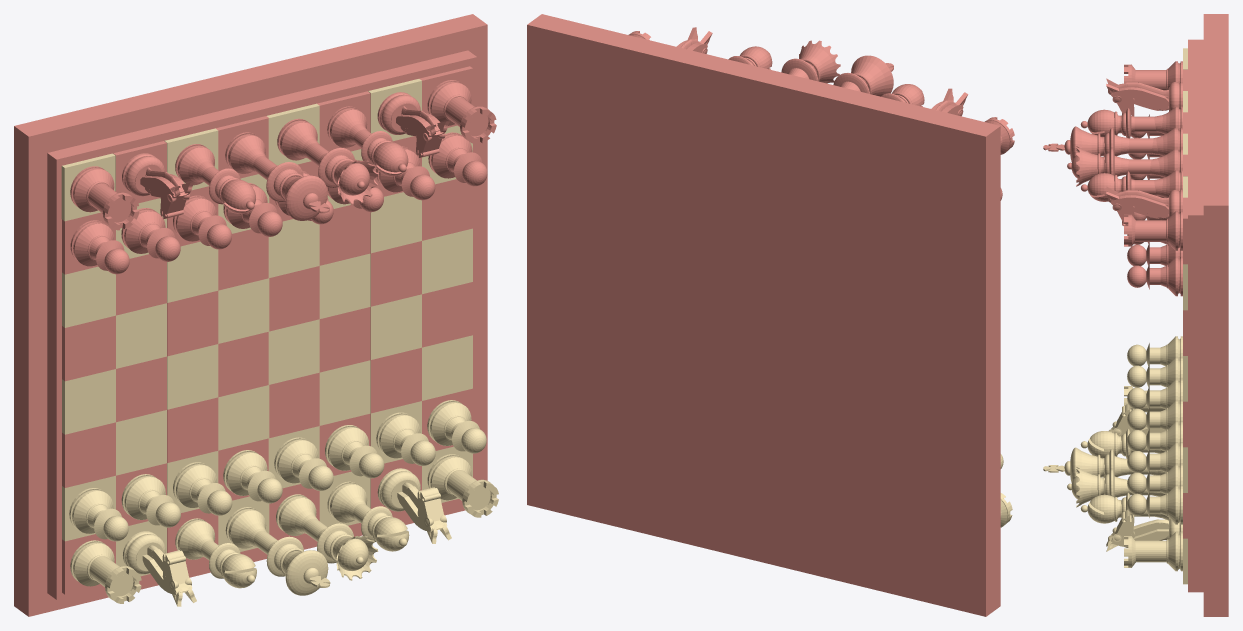
Rendered from tinker.obj.
The picture shows the model from 3 angles, left to right: view 1: azimuth 30°, elevation 25°; view 2: azimuth 150°, elevation 25°; view 3: azimuth 270°, elevation 25°; orthographic projection. The views are drawn at different scales.
Visible parts, largest first — view 1: obj_0, obj_1, obj_88, obj_89, obj_86, obj_87, obj_24, obj_46, obj_54, obj_90, obj_92, obj_93 (+77 smaller); view 2: obj_0, obj_88, obj_86; view 3: obj_0, obj_1, obj_88, obj_86, obj_93, obj_94, obj_95, obj_91, obj_73, obj_83, obj_89, obj_87 (+16 smaller).
Boxes of the visible parts, x1,y1,x2,y2 form: obj_0: [14, 14, 487, 616]; obj_1: [47, 50, 477, 599]; obj_88: [225, 132, 329, 220]; obj_89: [225, 507, 330, 595]; obj_86: [277, 118, 379, 204]; obj_87: [276, 494, 378, 580]; obj_24: [62, 369, 115, 434]; obj_46: [62, 315, 115, 381]; obj_54: [62, 422, 115, 487]; obj_90: [175, 518, 256, 588]; obj_92: [327, 481, 409, 551]; obj_93: [175, 144, 255, 213]; obj_0: [527, 14, 1000, 616]; obj_88: [833, 55, 893, 96]; obj_86: [781, 40, 840, 83]; obj_0: [1203, 14, 1228, 616]; obj_1: [1188, 39, 1203, 592]; obj_88: [1043, 126, 1182, 162]; obj_86: [1067, 146, 1182, 186]; obj_93: [1080, 106, 1182, 138]; obj_94: [1106, 78, 1182, 116]; obj_95: [1106, 186, 1182, 225]; obj_91: [1081, 170, 1182, 201]; obj_73: [1124, 531, 1182, 571]; obj_83: [1124, 211, 1182, 250]; obj_89: [1043, 447, 1165, 483]; obj_87: [1067, 467, 1165, 507].
Size of the model in its own units: 308 by 308 by 126.
